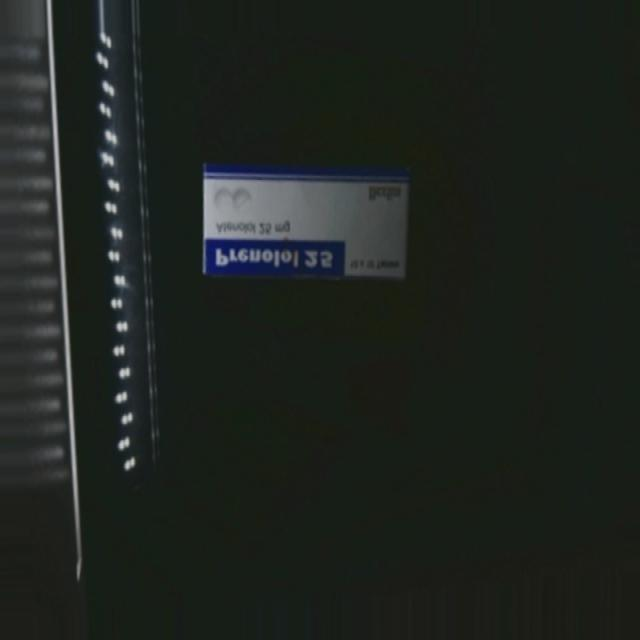prenolol: (198, 162, 419, 284)
